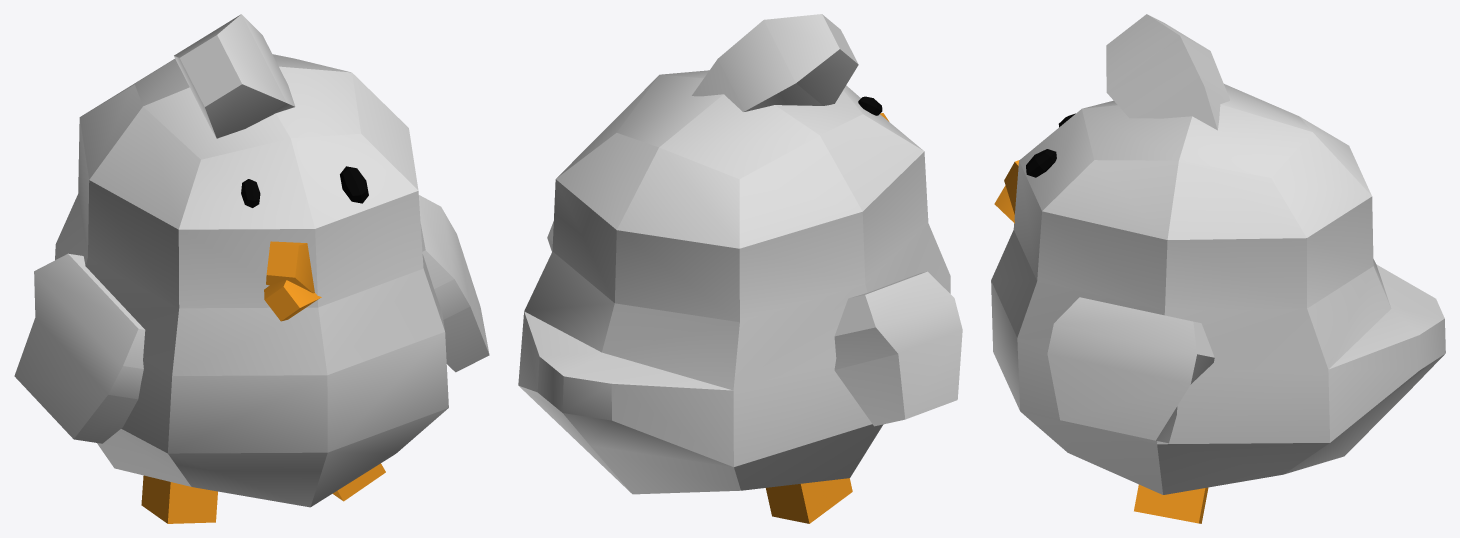
Rendered from smallBird.fbx.
3 renders of one model, left to right at view 1: azimuth 30°, elevation 25°; view 2: azimuth 150°, elevation 25°; view 3: azimuth 270°, elevation 25°, orthographic. The views are drawn at different scales.
Visible parts, largest first — view 1: Body, Wing, Hair, WIng, Leg.001, Beak.001, Beak, Eye, Leg; view 2: Body, Wing, Hair, Leg.001; view 3: Body, WIng, Hair, Leg, Eye.
Part boxes in pixels (x1,y1,x2,y2): Body: [55, 54, 448, 507]; Wing: [14, 253, 145, 443]; Hair: [174, 14, 295, 138]; WIng: [418, 195, 489, 372]; Leg.001: [141, 475, 217, 523]; Beak.001: [266, 241, 314, 293]; Beak: [264, 280, 321, 321]; Eye: [340, 166, 368, 203]; Leg: [332, 463, 385, 501]; Body: [518, 70, 950, 494]; Wing: [834, 271, 962, 426]; Hair: [692, 14, 858, 111]; Leg.001: [766, 478, 852, 523]; Body: [991, 84, 1445, 494]; WIng: [1047, 297, 1214, 443]; Hair: [1106, 14, 1229, 130]; Leg: [1134, 484, 1208, 523]; Eye: [1026, 149, 1056, 177].
Bounding box in the file's own units: 130 × 150 × 137.
